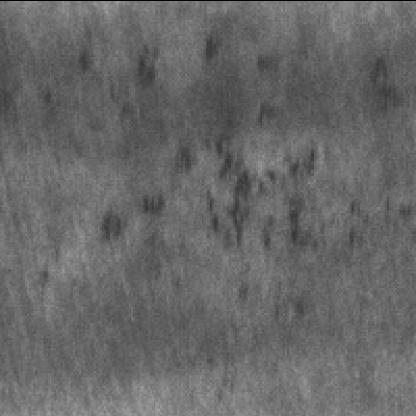rolled-in_scale: (97, 116, 343, 264), (73, 29, 285, 123)
